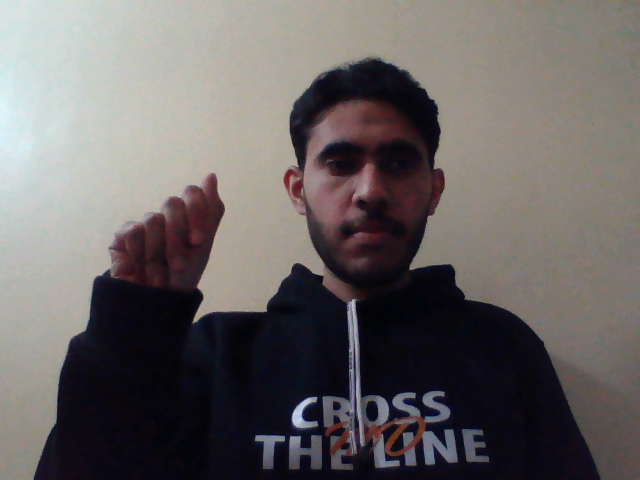A: (105, 170, 227, 295)
